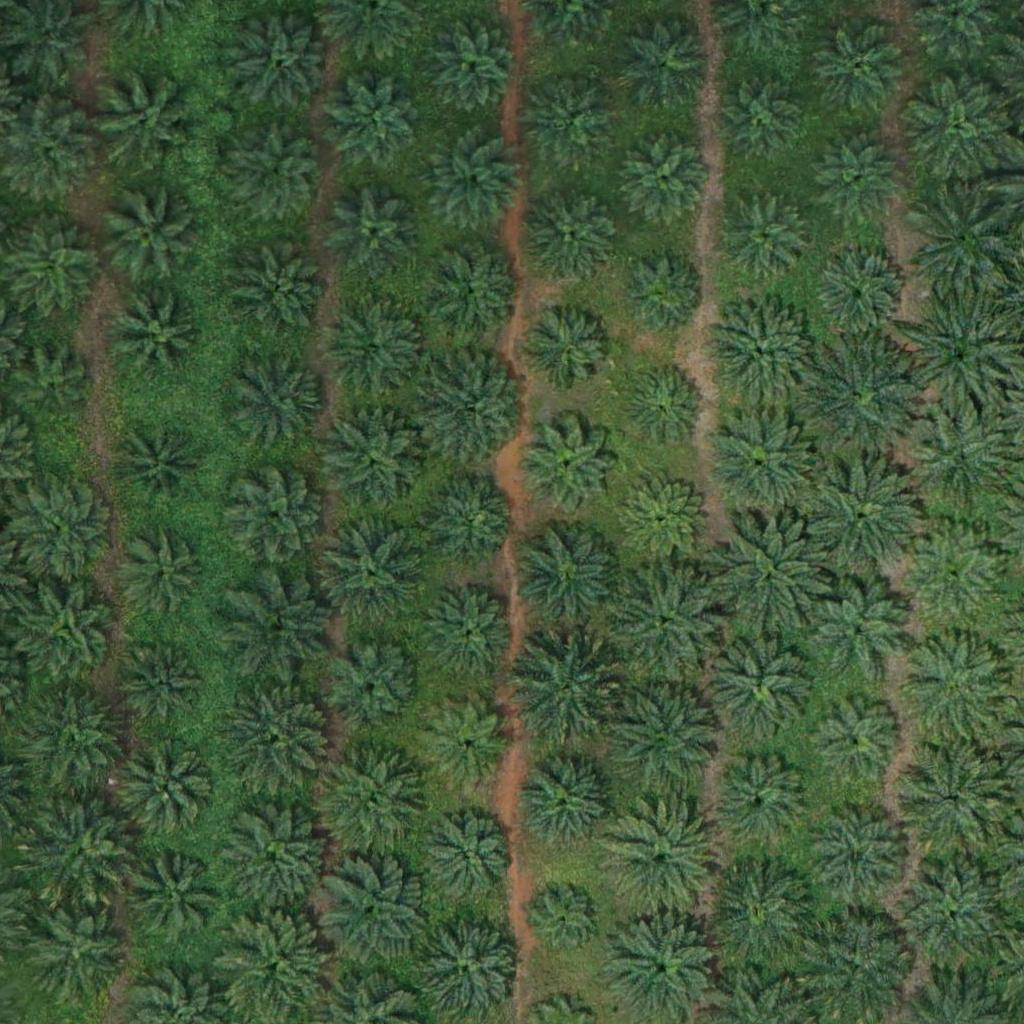Kelapa_Sawit: (317, 405, 430, 519), (417, 351, 530, 465), (514, 521, 627, 635), (506, 634, 619, 748), (225, 4, 338, 117), (223, 686, 336, 799), (218, 805, 331, 918), (512, 743, 625, 856), (604, 805, 717, 918), (703, 294, 816, 407), (704, 410, 817, 523), (807, 343, 920, 456), (805, 461, 918, 574), (901, 633, 1014, 746), (893, 742, 1006, 855), (898, 861, 1011, 974), (216, 909, 329, 1022), (612, 566, 724, 680), (609, 678, 721, 792), (706, 746, 818, 860), (703, 858, 815, 972), (902, 72, 1014, 185), (909, 186, 1021, 299), (419, 121, 531, 234), (24, 693, 136, 806), (223, 565, 335, 678), (316, 512, 428, 625), (313, 743, 425, 856), (713, 516, 825, 629), (707, 629, 819, 742), (904, 301, 1016, 414), (906, 403, 1018, 516), (315, 856, 427, 969), (21, 797, 133, 910), (810, 13, 910, 114), (615, 13, 715, 114), (520, 70, 620, 171), (521, 183, 621, 284), (421, 20, 521, 121), (324, 71, 424, 172), (1, 211, 101, 312), (19, 481, 119, 582), (17, 578, 117, 679), (109, 420, 209, 521), (116, 738, 216, 839), (225, 461, 325, 562), (322, 632, 422, 733), (806, 578, 906, 679), (902, 524, 1002, 625), (122, 847, 222, 948), (228, 118, 328, 218), (228, 240, 328, 340), (99, 73, 199, 173), (103, 187, 203, 287), (233, 348, 333, 448), (325, 296, 425, 396), (419, 470, 519, 570), (419, 584, 519, 684), (516, 416, 616, 516), (809, 807, 909, 907), (25, 906, 125, 1006), (812, 134, 900, 222), (817, 251, 905, 339), (714, 76, 802, 164), (424, 816, 512, 904), (523, 307, 611, 395), (621, 361, 709, 449), (618, 475, 706, 563), (721, 193, 808, 282), (621, 133, 708, 222), (119, 641, 206, 730), (329, 191, 416, 279), (429, 246, 516, 334), (122, 528, 209, 616), (424, 700, 511, 788), (619, 249, 706, 337), (815, 697, 902, 785), (123, 301, 198, 377), (18, 346, 93, 421), (535, 889, 598, 952)
